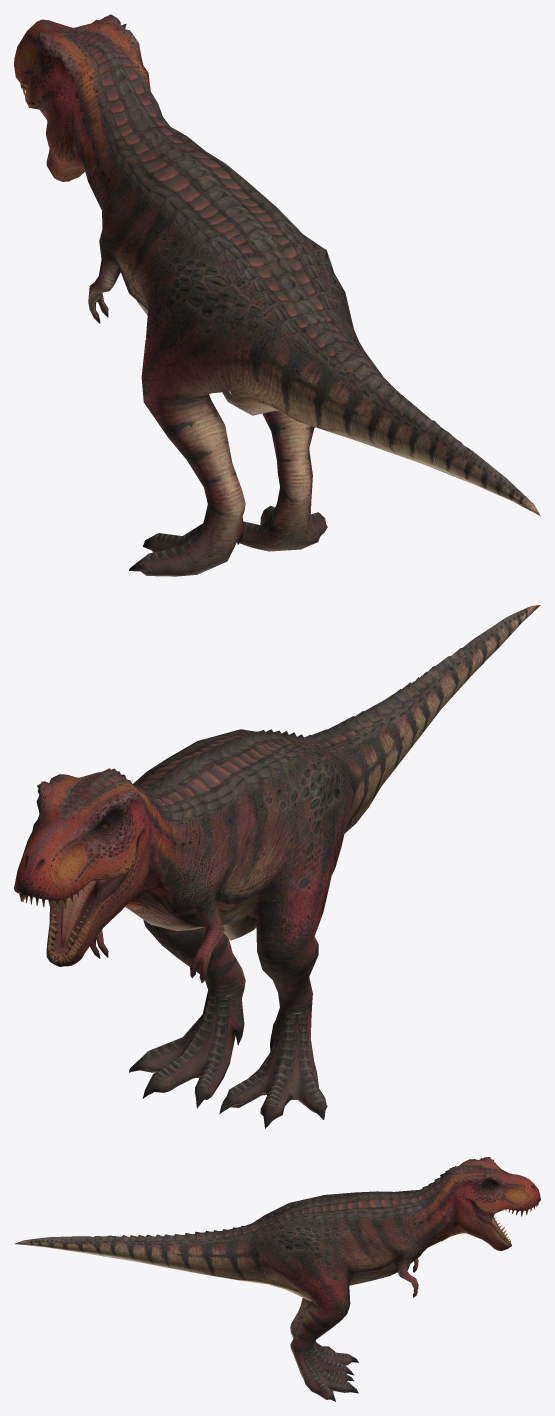
File: t-rex.obj
The picture shows the model from 3 angles, top to bottom: view 1: azimuth 30°, elevation 25°; view 2: azimuth 150°, elevation 25°; view 3: azimuth 270°, elevation 25°; orthographic projection. The views are drawn at different scales.
Parts seen in each view (by area): view 1: rdmobj00, rdmobj01; view 2: rdmobj00, rdmobj01; view 3: rdmobj00, rdmobj01.
Part boxes in pixels (bbox=[...]): rdmobj00: bbox=[88, 127, 540, 576]; rdmobj01: bbox=[14, 14, 170, 181]; rdmobj00: bbox=[89, 605, 540, 1128]; rdmobj01: bbox=[14, 768, 174, 966]; rdmobj00: bbox=[15, 1190, 440, 1401]; rdmobj01: bbox=[415, 1157, 540, 1250].
Size of the model in its own units: 3.61 by 7.34 by 16.45.
Materials: 2 (2 with a texture image).
